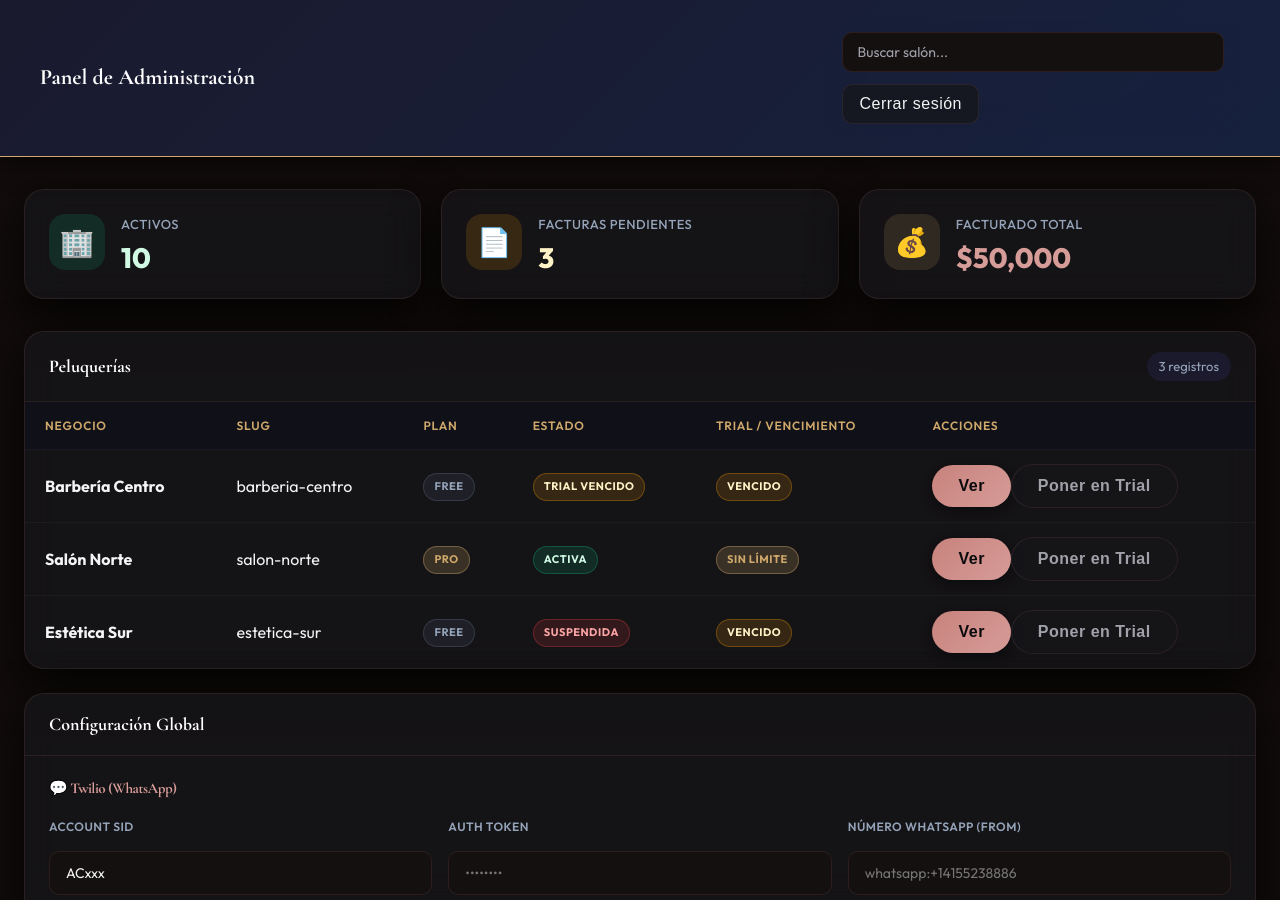
Scenario: AdminDashboard › creates a new invoice in modal
Expected: the text "Barbería Centro" is shown, [45,476,164,496]
Click the button "Ver" in the row of "Barbería Centro". click: (972, 486)
box: [932,465,1011,507]
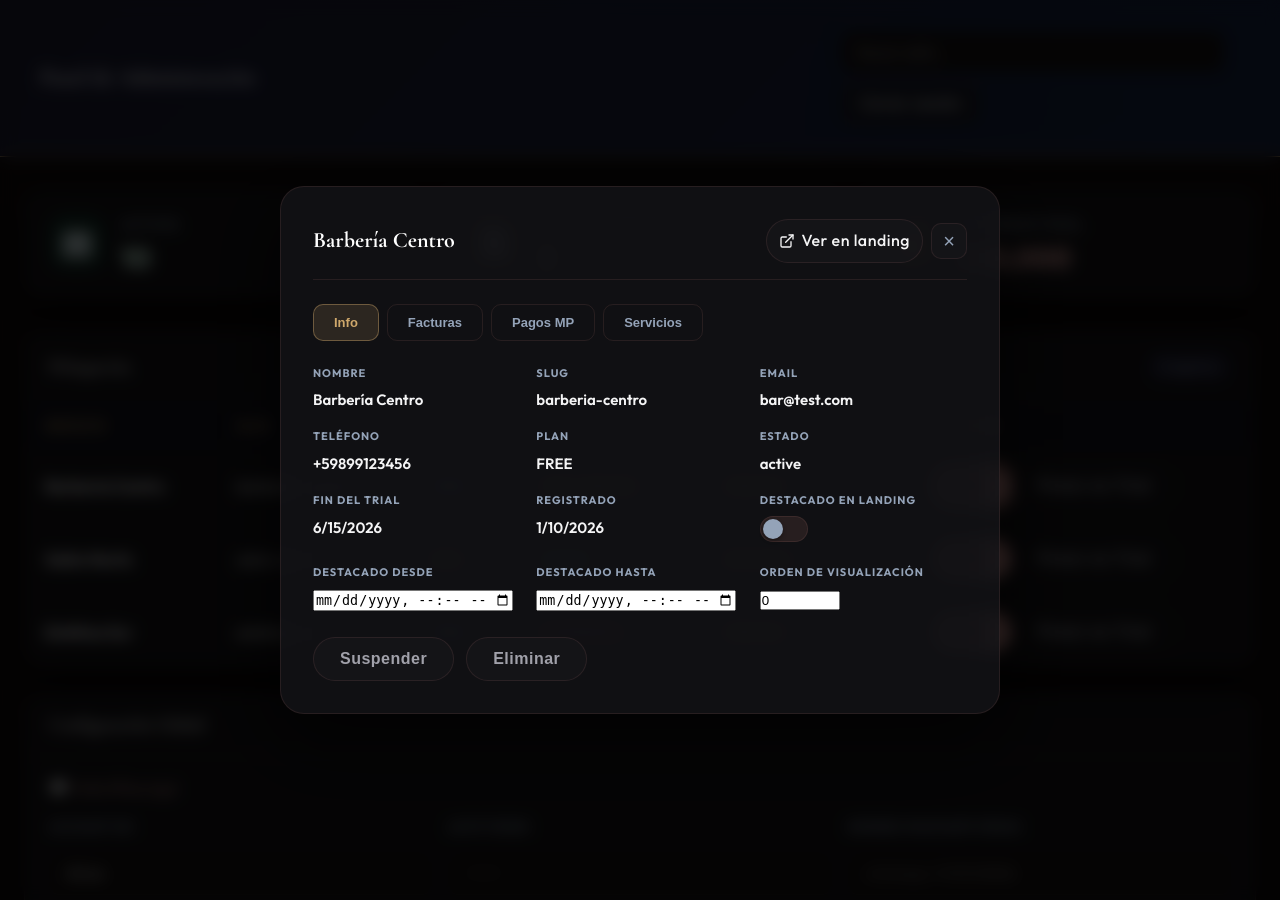
Expected: the button "Facturas" is shown
Click the button "Facturas". click: (435, 322)
box: [387,304,483,341]
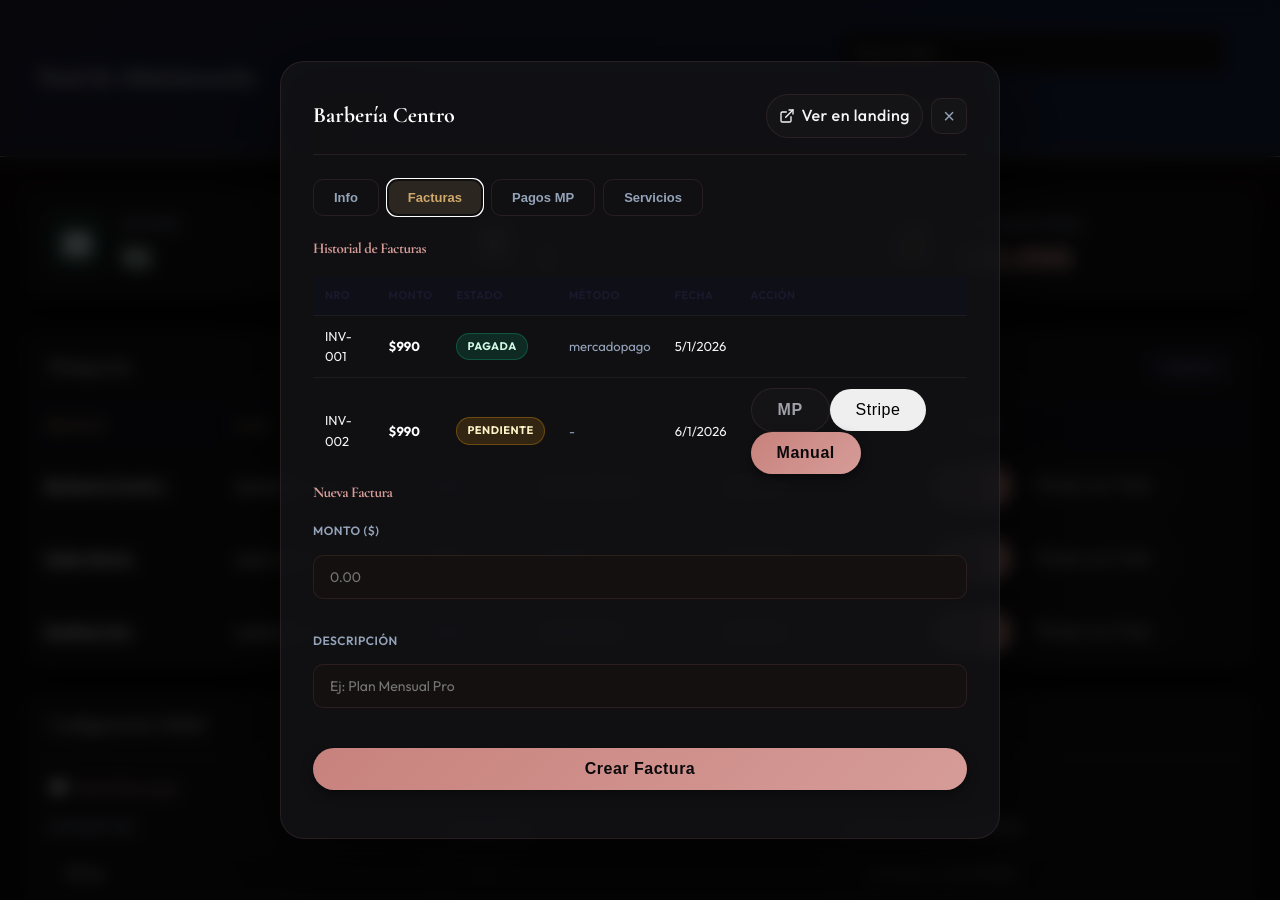
Expected: the heading "Nueva Factura" is shown, [313,483,392,501]
Type "1500" into the number field with placeholder "0.00". click: (640, 577)
box: [313,555,967,599]
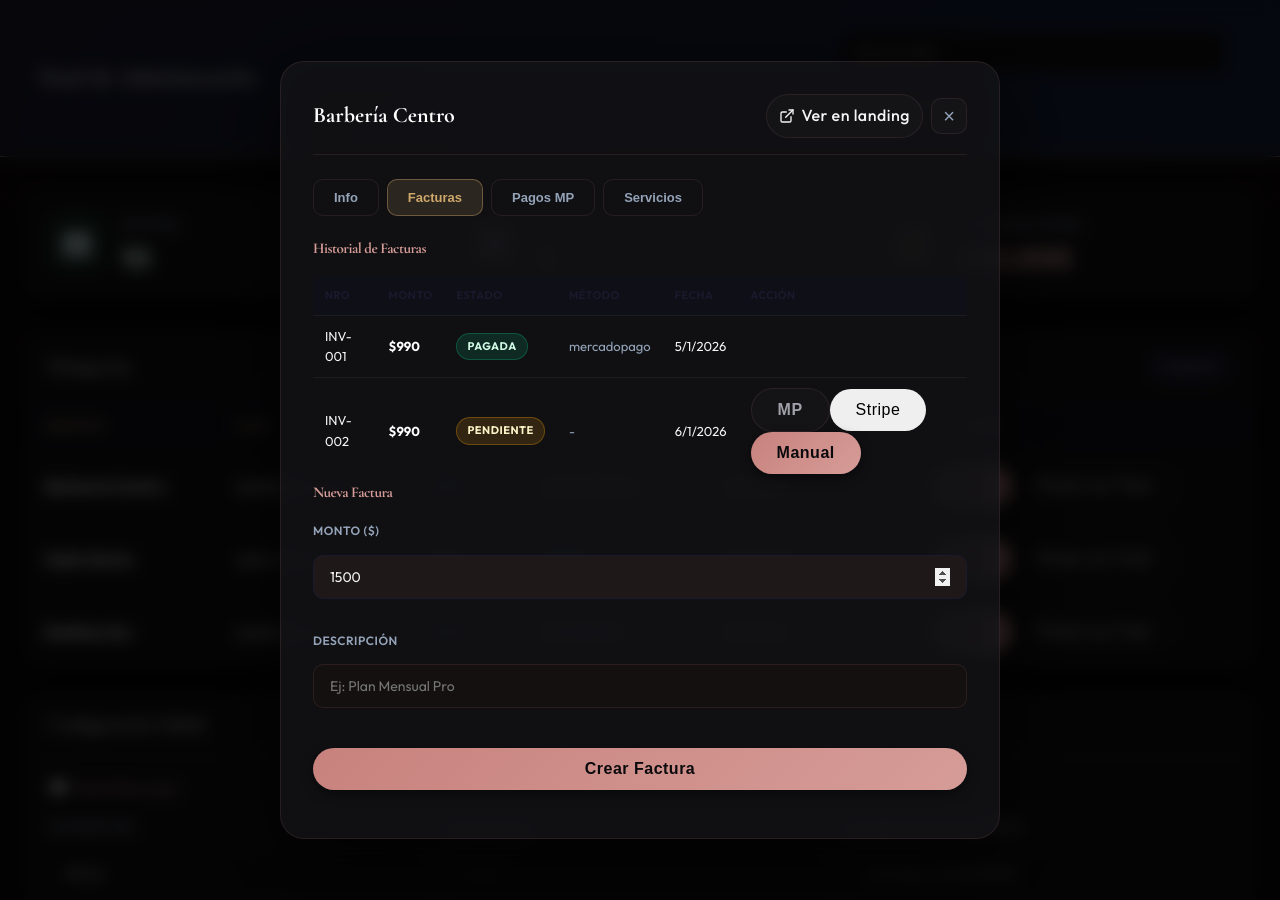
Type "Plan Premium" into the field with placeholder "Ej: Plan Mensual Pro". click: (640, 686)
box: [313,664,967,708]
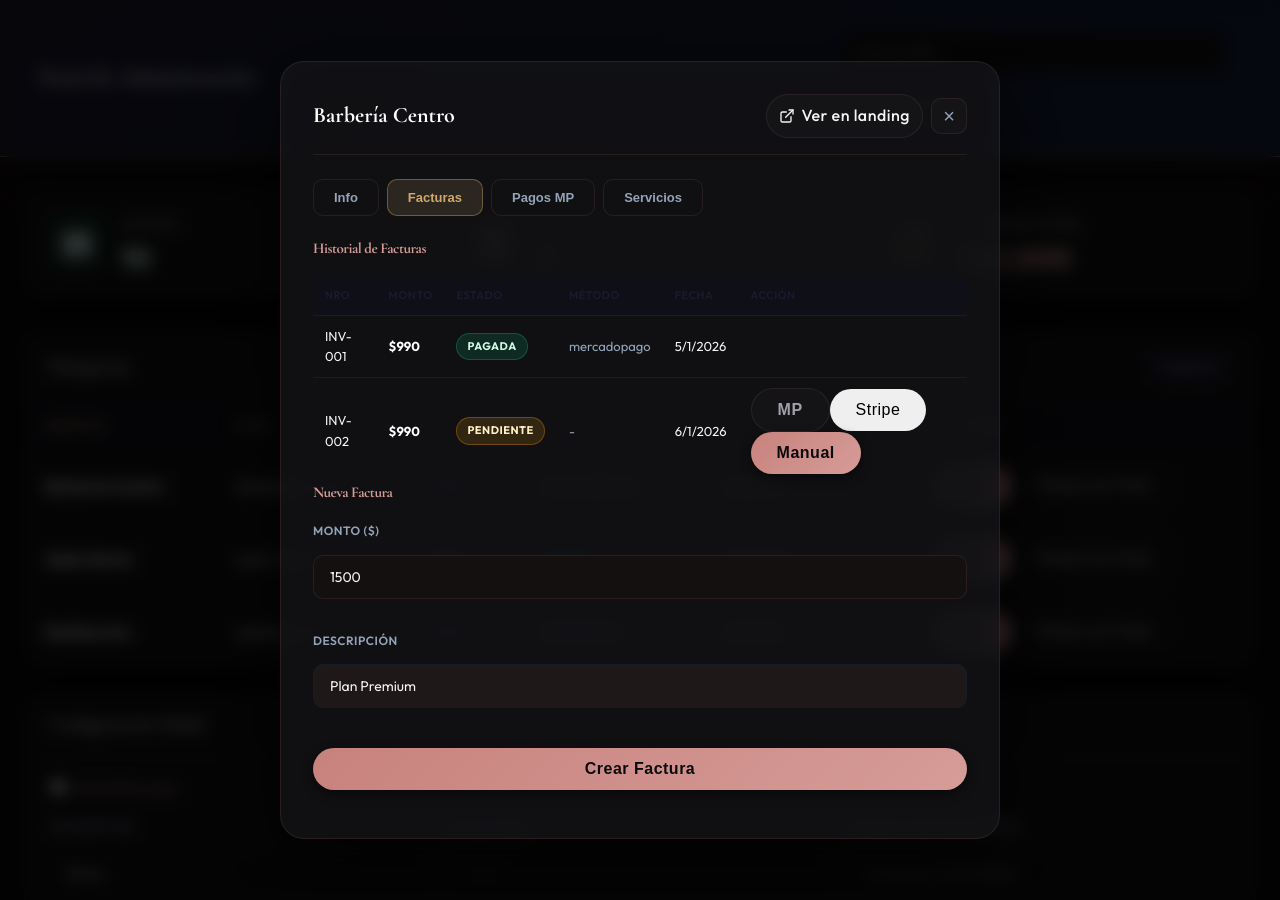
Click the button "Crear Factura". click: (640, 769)
box: [313,748,967,790]
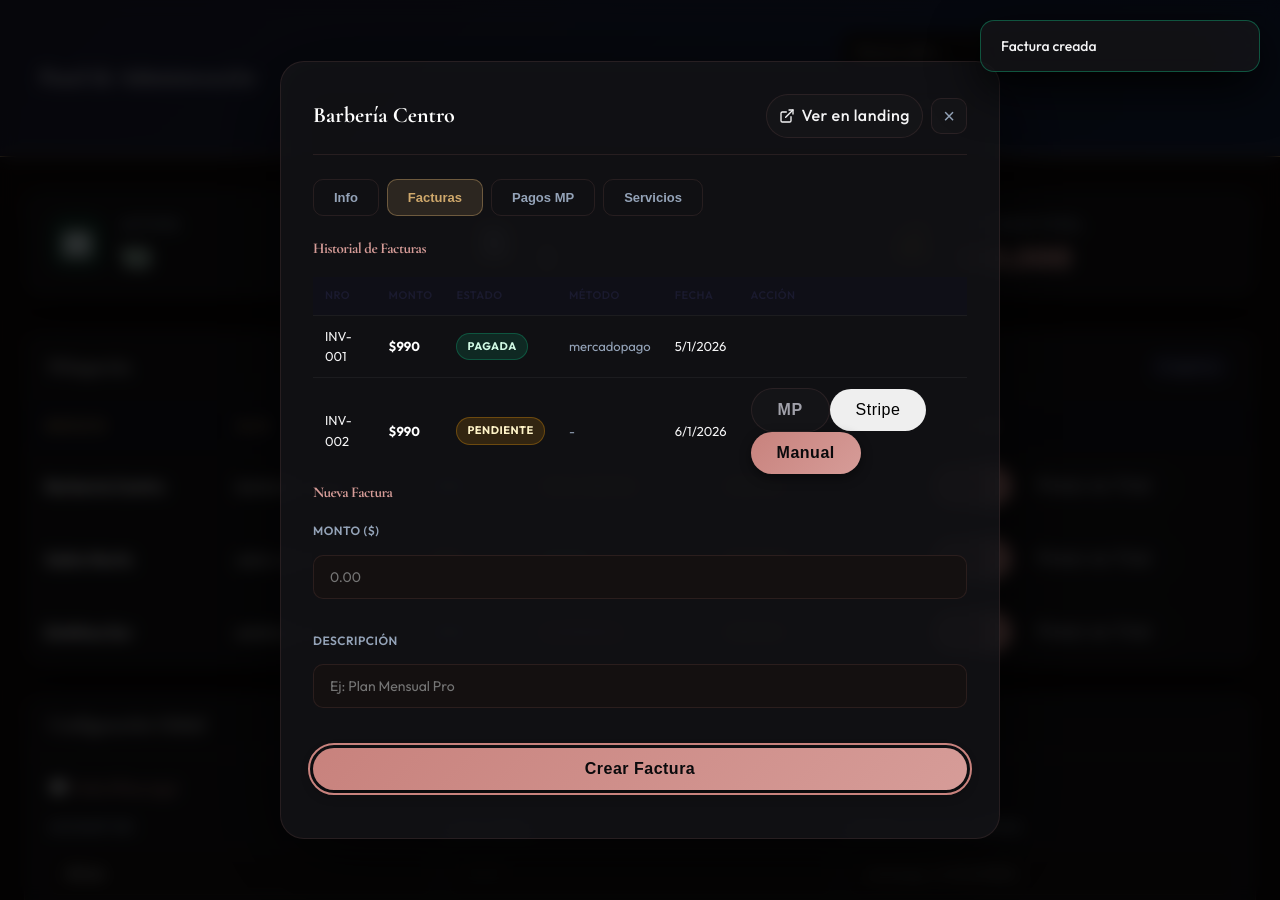
Expected: the text "Factura creada" is shown, [1001,35,1097,57]
